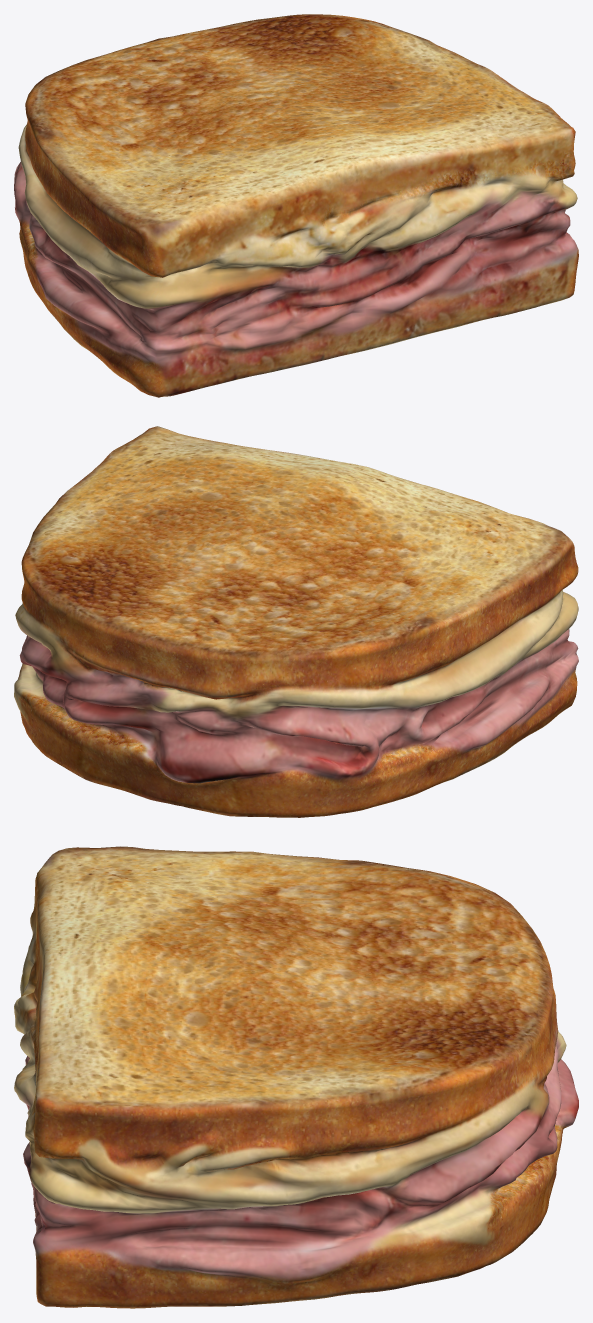
The model's file is SANWICH.fbx.
The picture shows the model from 3 angles, top to bottom: view 1: azimuth 30°, elevation 25°; view 2: azimuth 150°, elevation 25°; view 3: azimuth 270°, elevation 25°; orthographic projection. The views are drawn at different scales.
Visible parts, largest first — view 1: SANWICH; view 2: SANWICH; view 3: SANWICH.
Part boxes in pixels (left/top/right/bottom): SANWICH: left=14, top=14, right=578, bottom=397; SANWICH: left=14, top=426, right=578, bottom=817; SANWICH: left=14, top=846, right=578, bottom=1308.
Bounding box in the file's own units: 9.8 × 3.92 × 8.54.
Materials: 1 (1 with a texture image).
